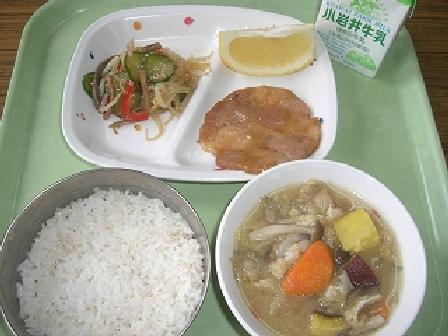Citrus: (215, 15, 325, 82)
Meat: (200, 86, 321, 171)
Milk: (312, 0, 422, 67)
Rice: (0, 161, 209, 334)
Salad: (86, 42, 200, 130)
Soups: (214, 161, 427, 336)
